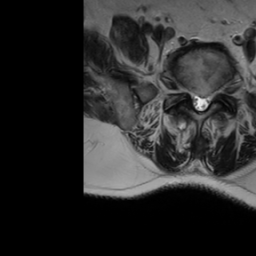CCS_severe_stenosis: (197, 85, 203, 119)
LFS_stenosis: (211, 84, 219, 105)
LLS_normal: (203, 87, 211, 115)
RFS_stenosis: (183, 77, 191, 104)
RLS_normal: (190, 85, 197, 113)
